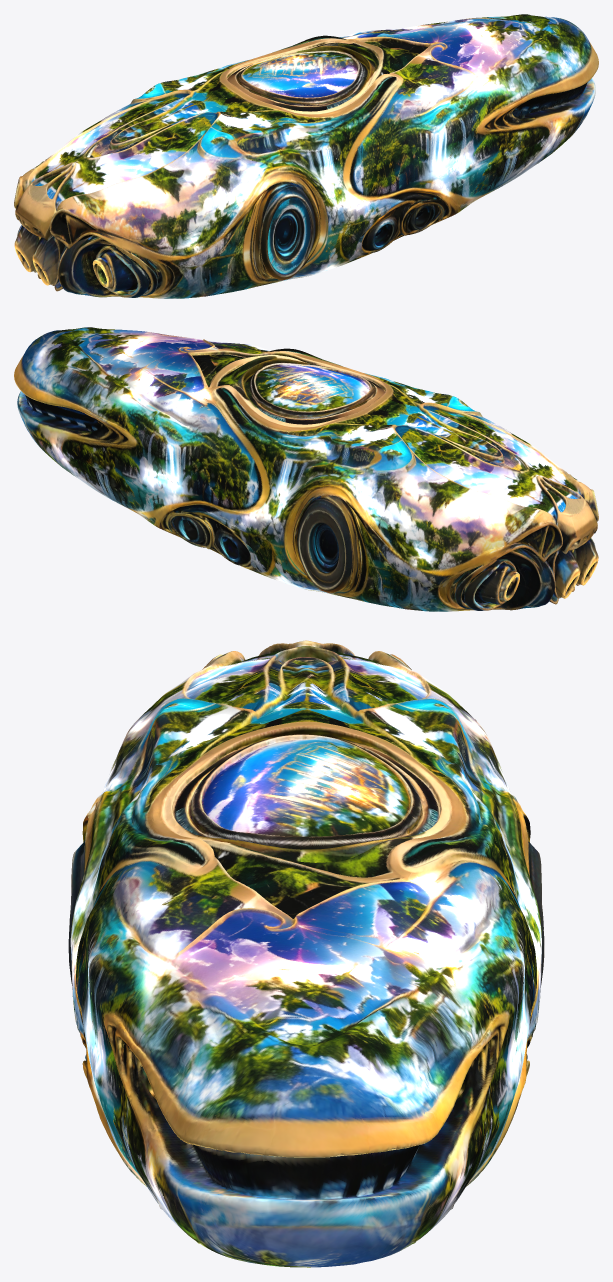
File: starpod_horizon_v2.glb
3 views of the same model, one above another, from view 1: azimuth 30°, elevation 25°; view 2: azimuth 150°, elevation 25°; view 3: azimuth 270°, elevation 25° (orthographic). The views are drawn at different scales.
Bounding box in the file's own units: 1.9 × 0.5815 × 0.6983.
Materials: 1 (1 with a texture image).
